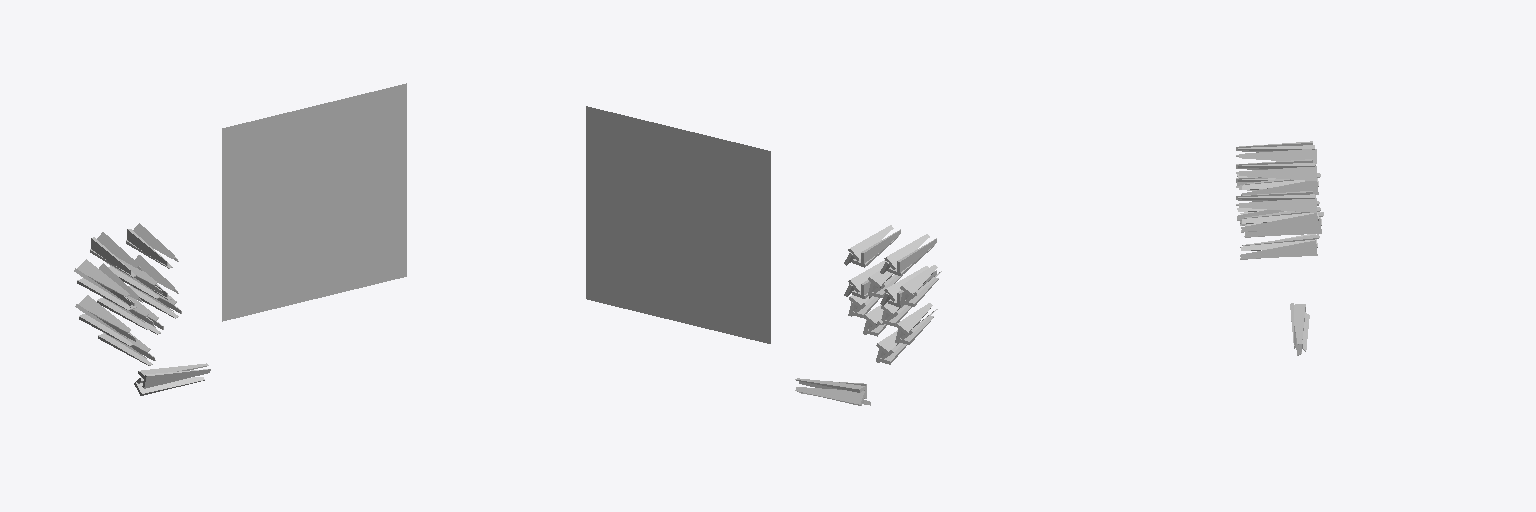
Rendered from append-shortgrass.obj.
3 views of the same model, side by side, from view 1: azimuth 30°, elevation 25°; view 2: azimuth 150°, elevation 25°; view 3: azimuth 270°, elevation 25° (orthographic).
Visible parts, largest first — view 1: obj1, obj3, obj7, obj6, obj13, obj12, obj9, obj4, obj5, obj2; view 2: obj1, obj3, obj13, obj12, obj7, obj6, obj10, obj4, obj11, obj9; view 3: obj4, obj13, obj10, obj2, obj12, obj9, obj3.
Part boxes in pixels (bbox=[...]): obj1: bbox=[222, 83, 406, 321]; obj3: bbox=[134, 363, 210, 395]; obj7: bbox=[75, 295, 135, 345]; obj6: bbox=[74, 259, 134, 310]; obj13: bbox=[126, 223, 178, 268]; obj12: bbox=[90, 232, 142, 277]; obj9: bbox=[106, 257, 162, 298]; obj4: bbox=[98, 332, 155, 365]; obj5: bbox=[97, 296, 153, 329]; obj2: bbox=[129, 285, 181, 318]; obj1: bbox=[586, 106, 770, 343]; obj3: bbox=[795, 378, 870, 405]; obj13: bbox=[844, 225, 900, 267]; obj12: bbox=[880, 234, 936, 275]; obj7: bbox=[895, 303, 937, 344]; obj6: bbox=[900, 265, 941, 306]; obj10: bbox=[844, 260, 885, 298]; obj4: bbox=[876, 330, 906, 364]; obj11: bbox=[880, 266, 936, 307]; obj9: bbox=[868, 270, 902, 297]; obj4: bbox=[1240, 234, 1319, 259]; obj13: bbox=[1236, 159, 1316, 180]; obj10: bbox=[1236, 191, 1316, 212]; obj2: bbox=[1241, 207, 1320, 232]; obj12: bbox=[1236, 141, 1316, 163]; obj9: bbox=[1241, 173, 1320, 195]; obj3: bbox=[1290, 303, 1309, 355].
Size of the model in its own units: 3.6 by 2.5 by 0.8259.